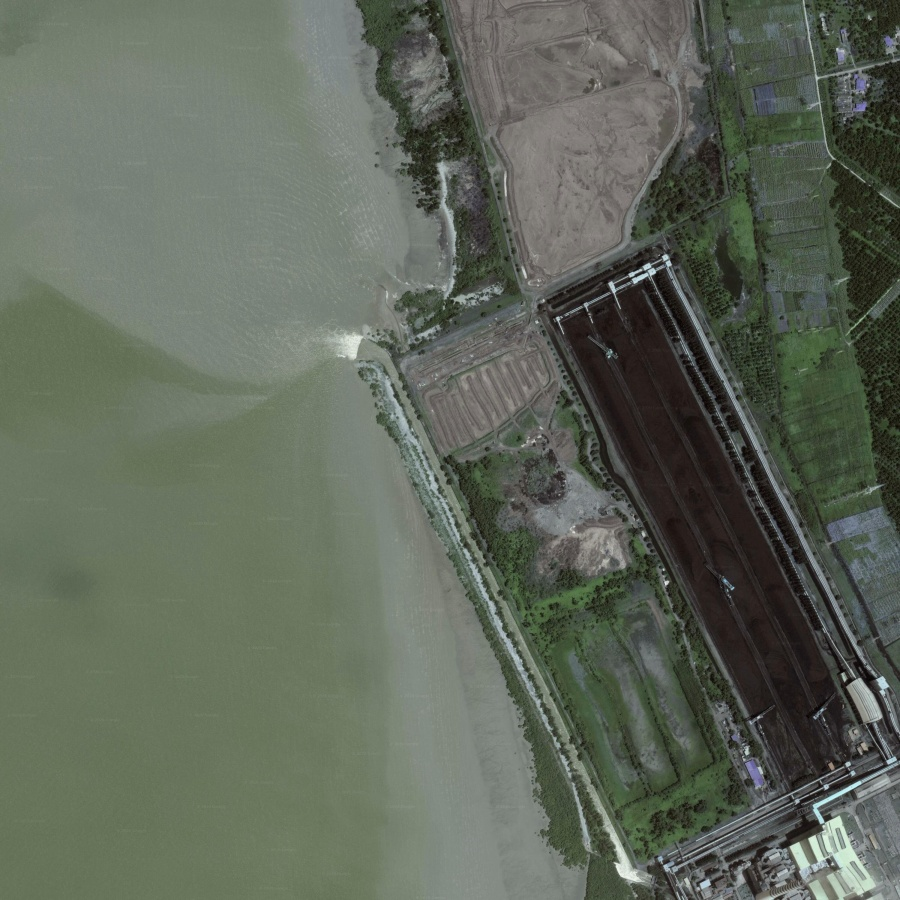PowerPlant: (562, 256, 885, 794)
